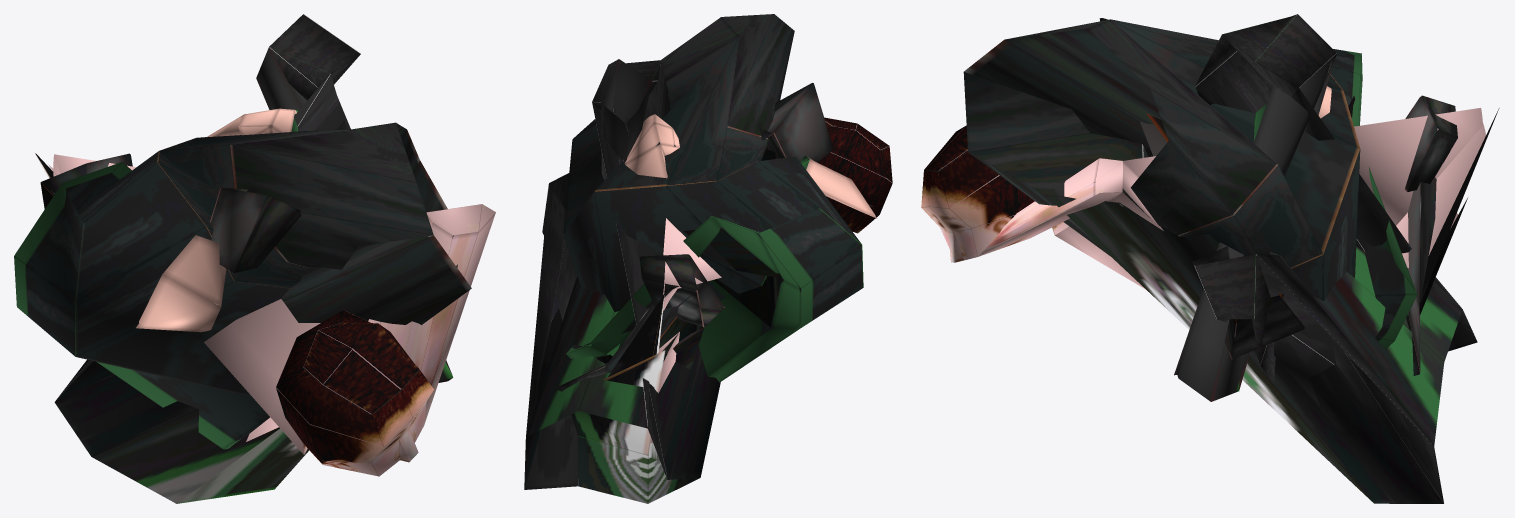
3 renders of one model, left to right at view 1: azimuth 30°, elevation 25°; view 2: azimuth 150°, elevation 25°; view 3: azimuth 270°, elevation 25°, orthographic. The views are drawn at different scales.
Visible parts, largest first — view 1: T1L1M000_8; view 2: T1L1M000_8; view 3: T1L1M000_8.
Part boxes in pixels (<box>): T1L1M000_8: <box>14,14,495,503</box>; T1L1M000_8: <box>524,14,892,503</box>; T1L1M000_8: <box>921,14,1499,503</box>.
Size of the model in its own units: 0.816 by 1.03 by 1.11.
Materials: 1 (1 with a texture image).
